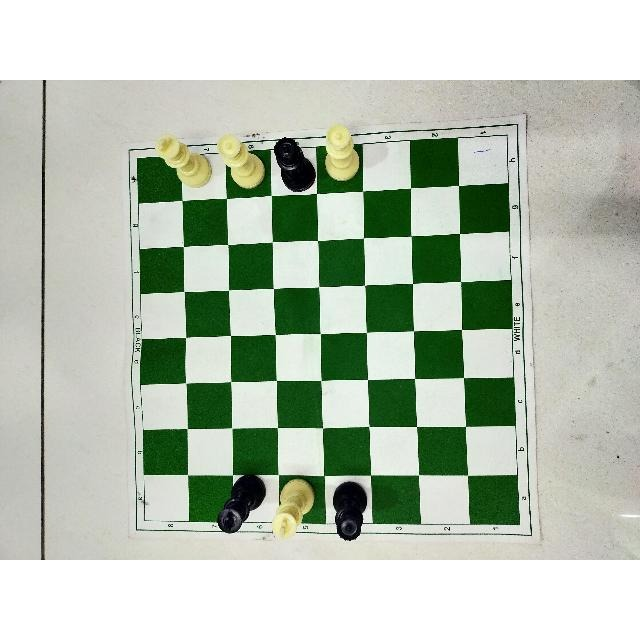black-king: (214, 467, 267, 536)
black-queen: (273, 135, 317, 192), (331, 481, 369, 543)
white-king: (154, 132, 214, 190), (270, 478, 318, 541)
white-queen: (214, 132, 267, 189), (320, 123, 361, 185)
